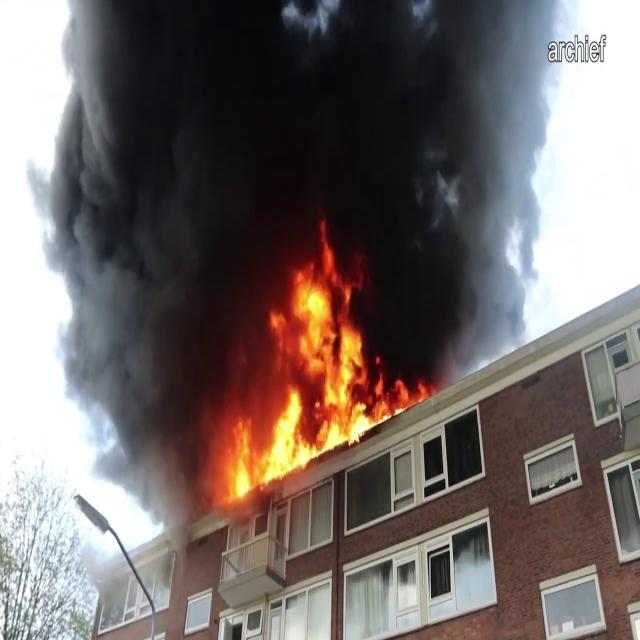Fire: (210, 244, 404, 500)
Smoke: (28, 0, 540, 350)
